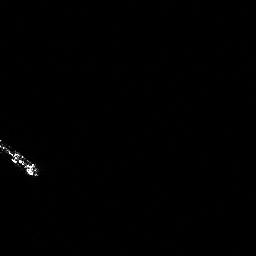ship: (1, 141, 39, 177)
